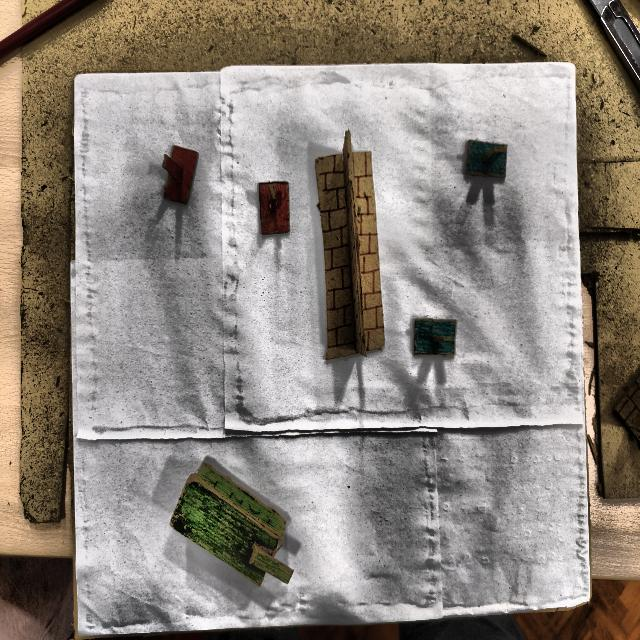Tank: (168, 460, 296, 587)
Wall: (313, 135, 387, 363)
enemy: (156, 139, 202, 210), (255, 179, 295, 239)
friend: (461, 136, 512, 186), (410, 317, 462, 363)
